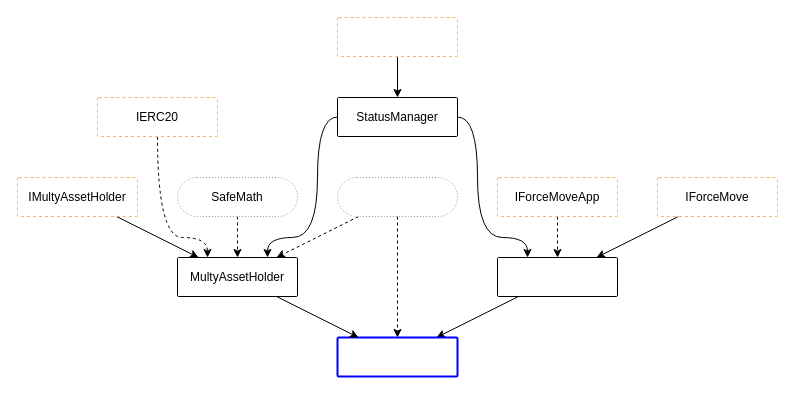
Some shapes in this 795 by 395 pixel diagram are drawn without their labels. Here are the shapes that lost their labels. From the top down, the centre of each, then its label:
(x=397, y=36): IStatusManager
(x=397, y=196): Outcome
(x=557, y=276): ForceMove
(x=397, y=356): NitroAdjudicator
